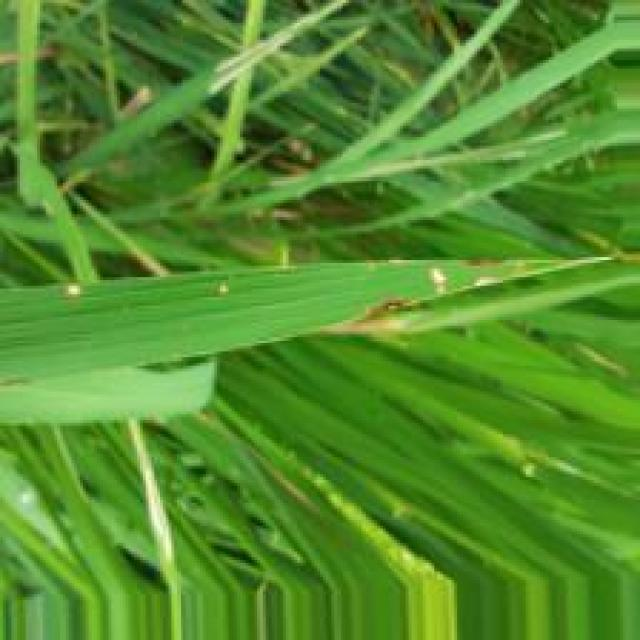Brown_Spot: (320, 296, 408, 334), (460, 258, 505, 269), (216, 282, 232, 297)
